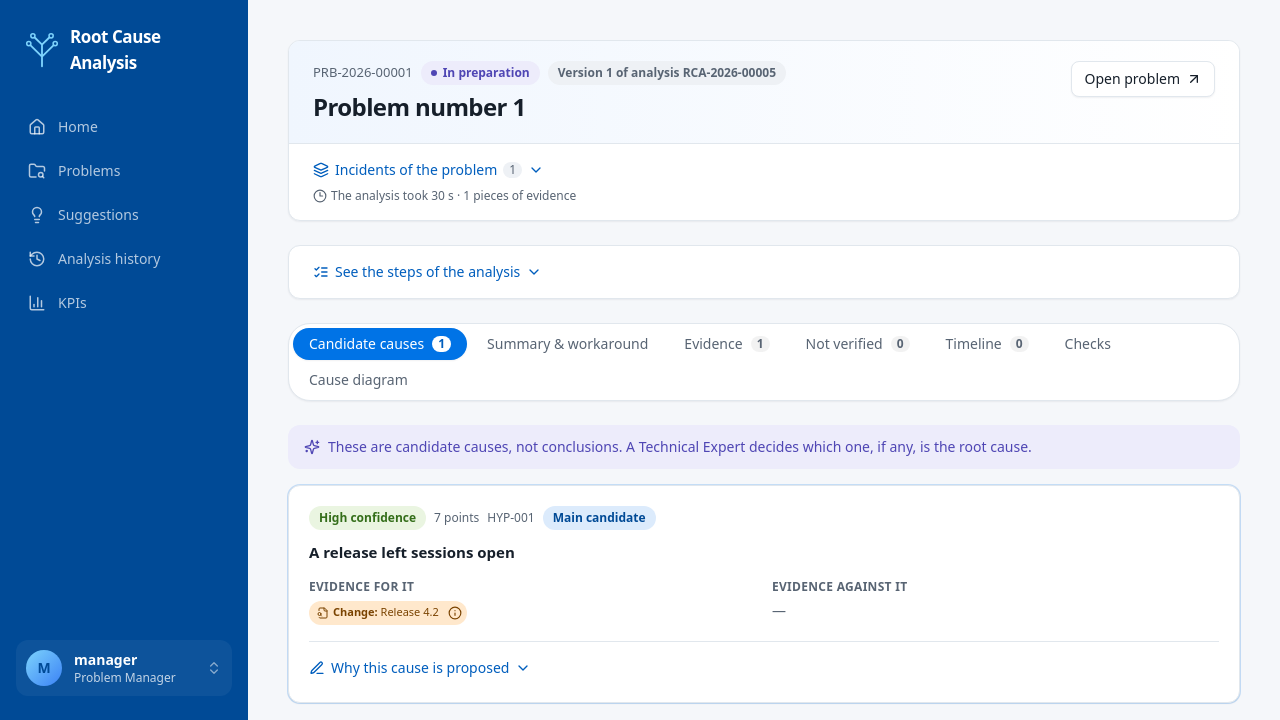
Test case: Investigation page › folds the finished steps away (the model only in a step's details), shows the causes, and sends the draft after a confirmation
Expected: the text "A release left sessions open" is shown, 309,542 -> 515,562
Expected: the text "gpt-oss-120b" is not shown
Click the button "See the steps of the analysis" at (428, 272), box 313,258 -> 542,286
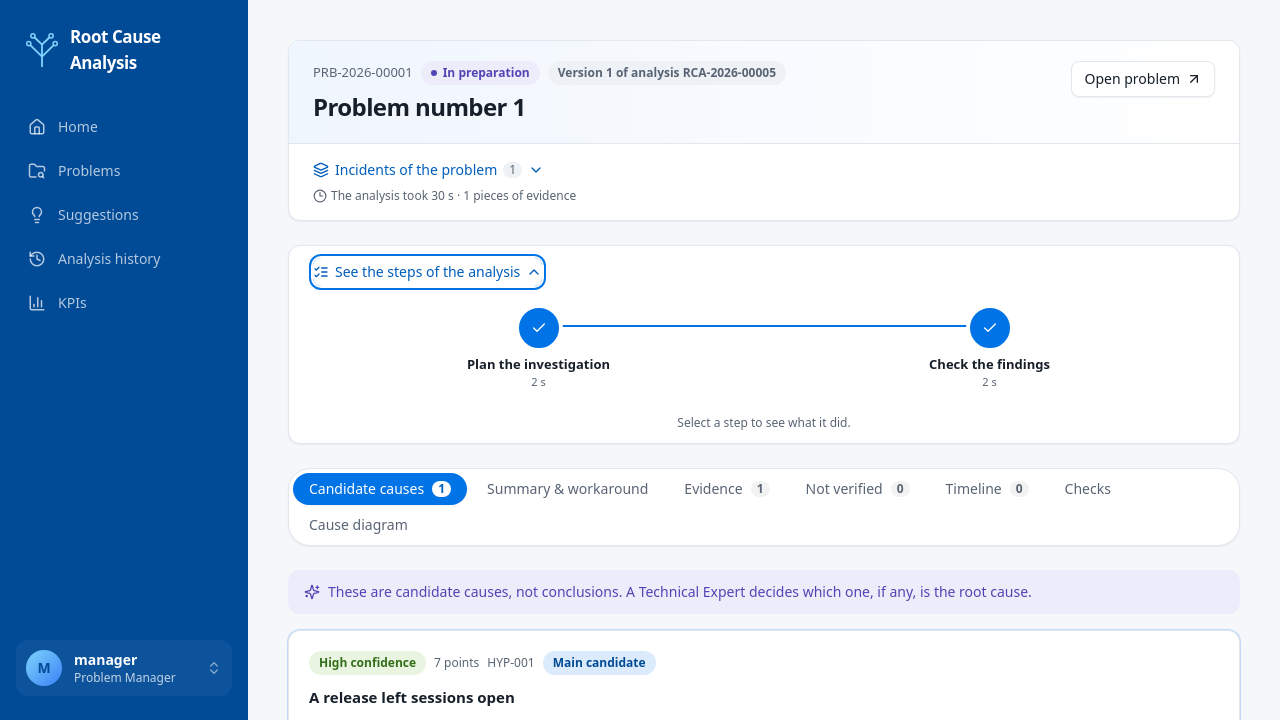
Click the button "Plan the investigation 2 s" at (538, 352), box 313,306 -> 764,399
(page scrolled)
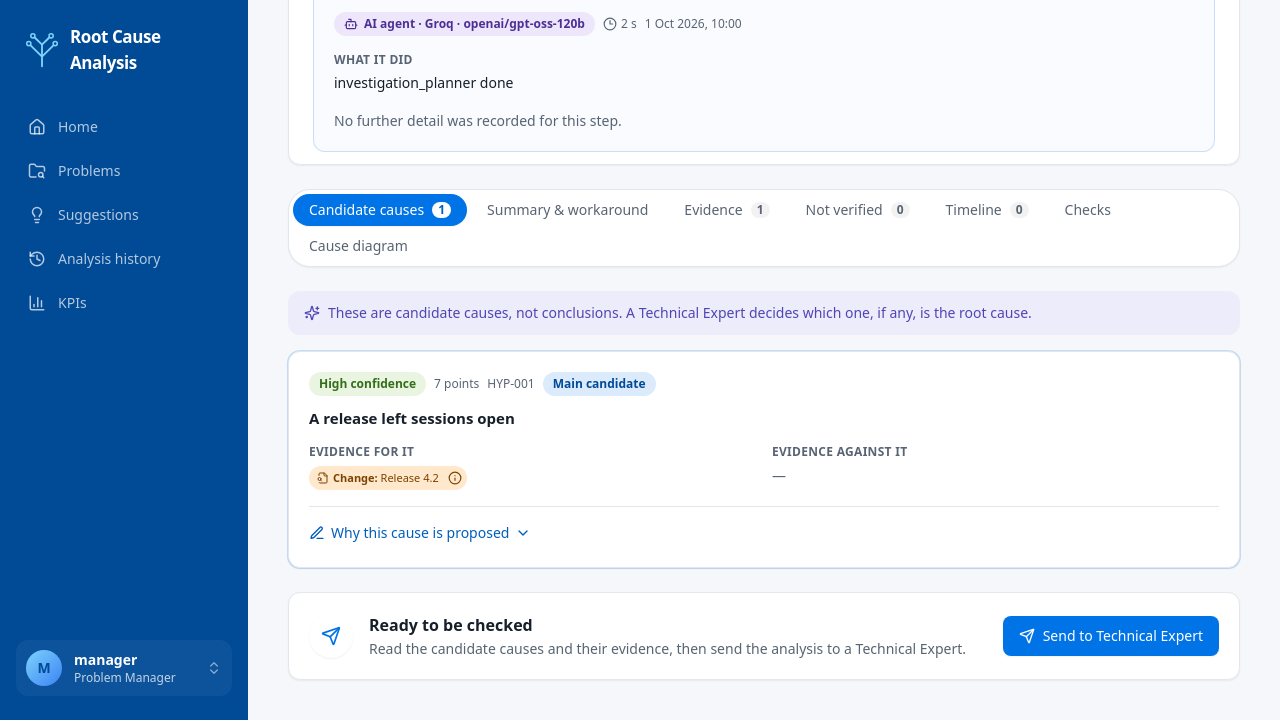
Expected: the text "CHG-2026-00001" is not shown
Now the text "AI agent · Groq · openai/gpt-oss-120b" is shown, box 334,12 -> 595,36
Click the button named "Details of the evidence Change: Release 4.2" at (455, 478), box 445,468 -> 465,488
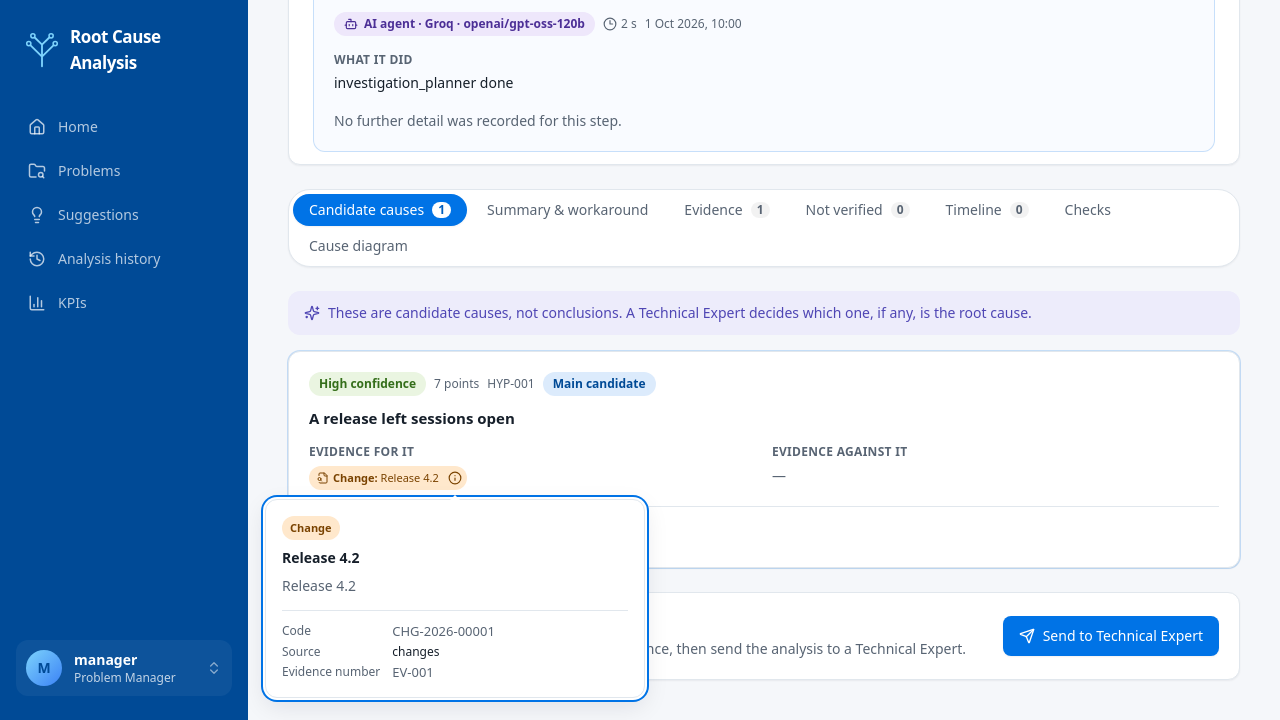
Now the text "CHG-2026-00001" is shown, box 392,622 -> 495,640
Press Escape
Click the button "Send to Technical Expert" at (1111, 636), box 1003,616 -> 1219,656
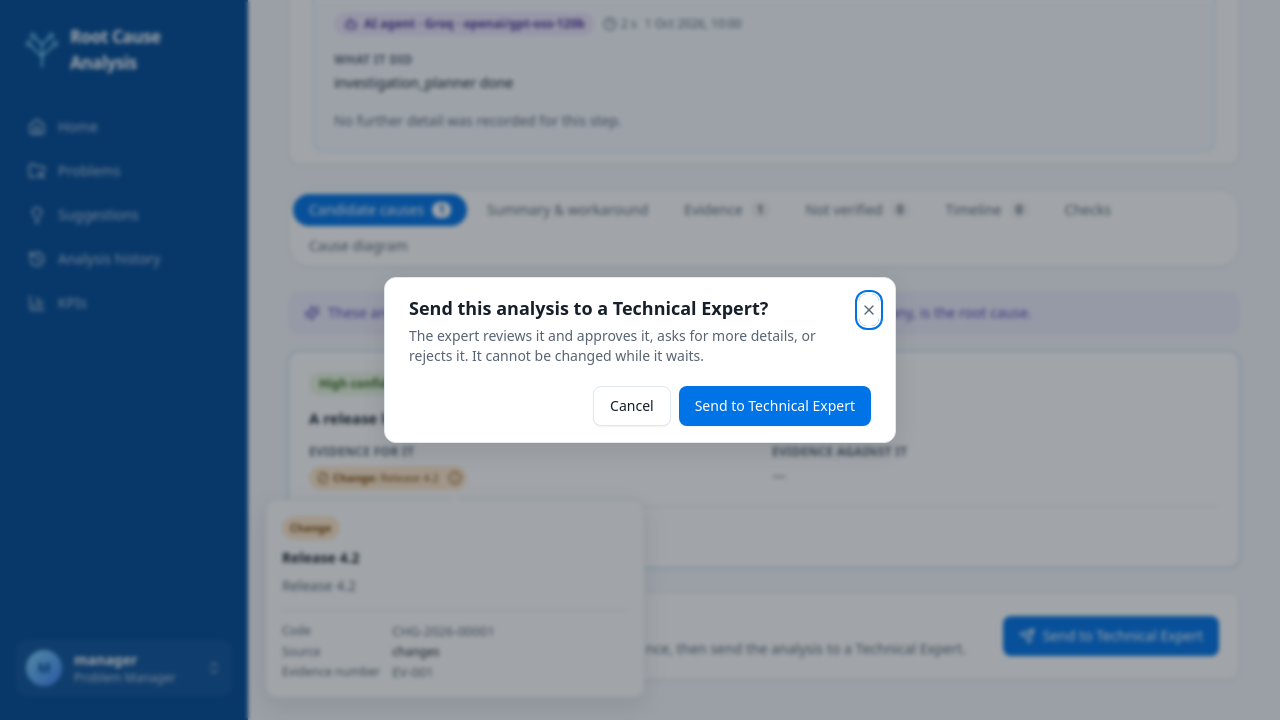
Click the button "Send to Technical Expert" at (775, 406), box 679,386 -> 871,426
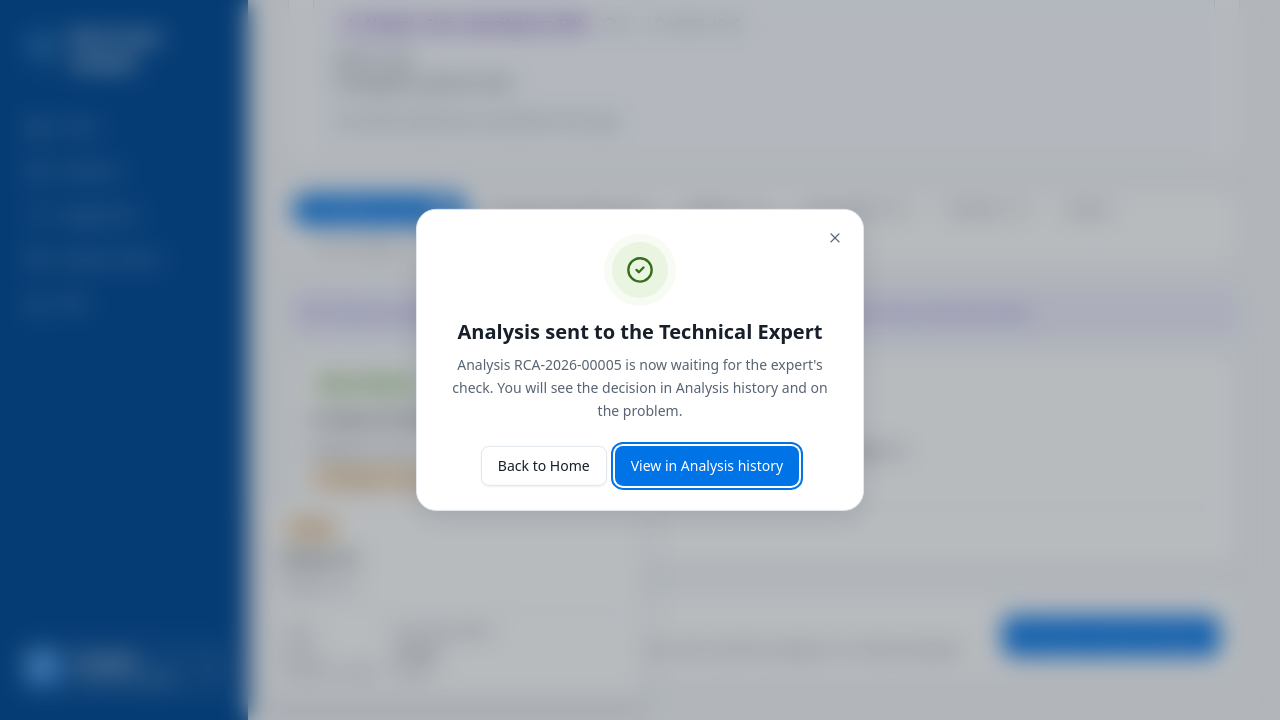
Now the heading "Analysis sent to the Technical Expert" is shown, box 441,318 -> 839,346
Now the button "View in Analysis history" is shown, box 615,446 -> 799,486
